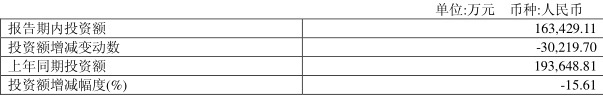column: (7, 1, 129, 98), (510, 1, 598, 98), (435, 1, 496, 98)
row: (1, 77, 603, 93), (1, 2, 603, 17), (1, 59, 603, 73), (1, 21, 603, 34), (1, 40, 603, 53)
